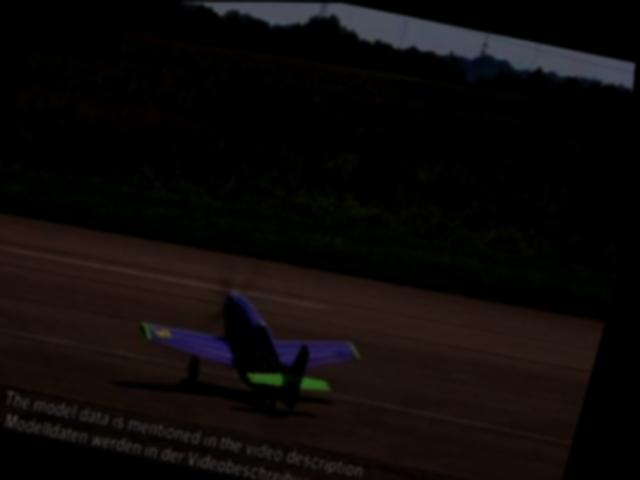uav: (128, 272, 384, 425)
